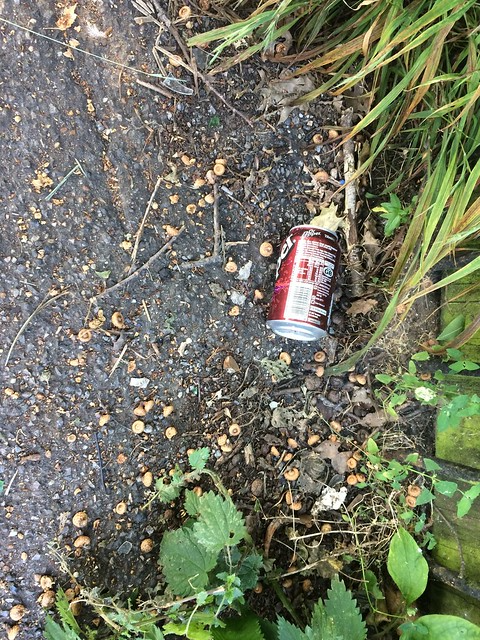can: (270, 213, 338, 346)
